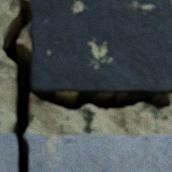brick: (30, 0, 171, 94)
broken_brick: (24, 134, 171, 171), (0, 134, 17, 171)
crack: (1, 0, 170, 171)
